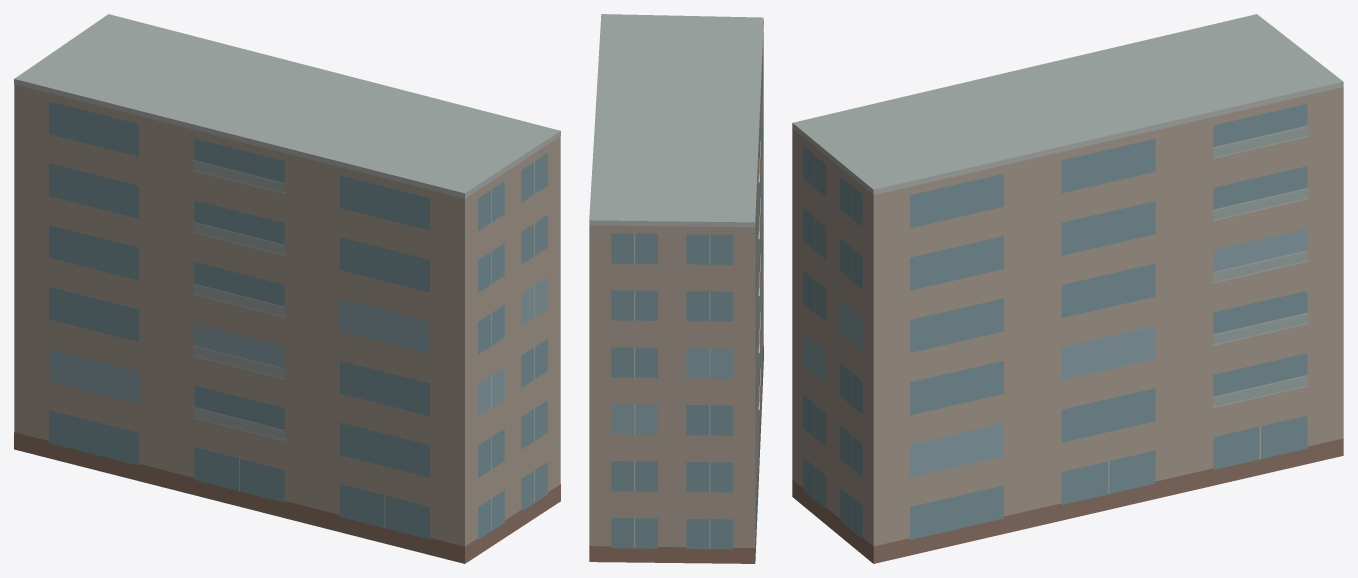
Rendered from survey-upis-32990812.glb.
The picture shows the model from 3 angles, left to right: view 1: azimuth 30°, elevation 25°; view 2: azimuth 150°, elevation 25°; view 3: azimuth 270°, elevation 25°; orthographic projection. The views are drawn at different scales.
Parts seen in each view (by area): view 1: survey-upis-32990812.tmp; view 2: survey-upis-32990812.tmp; view 3: survey-upis-32990812.tmp.
Part boxes in pixels (box(x1,y1,x2,y2)): survey-upis-32990812.tmp: box(14, 14, 560, 563); survey-upis-32990812.tmp: box(589, 14, 763, 563); survey-upis-32990812.tmp: box(792, 14, 1343, 563).
Bounding box in the file's own units: 16.94 × 16.8 × 22.44.
